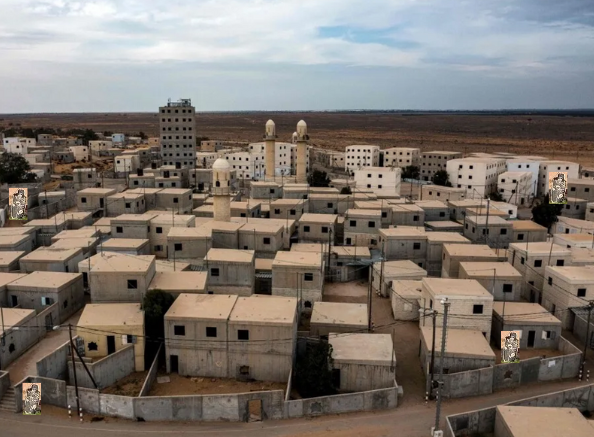HVT1: (25, 384, 40, 414), (13, 189, 26, 220), (552, 173, 565, 203), (505, 333, 518, 362)
